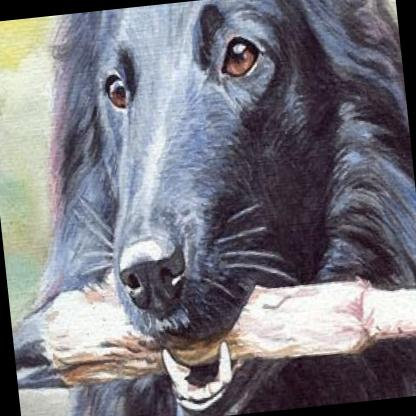groenendael: (1, 0, 416, 416)
